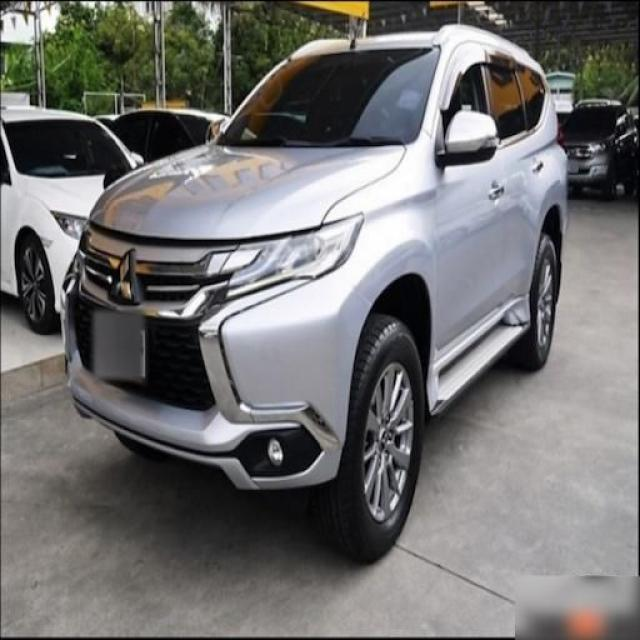back_left_door: (483, 43, 548, 301)
front_bumper: (63, 223, 370, 490)
front_glass: (218, 46, 440, 148)
front_left_door: (433, 42, 506, 356)
front_left_light: (217, 213, 365, 302)
hood: (88, 142, 404, 240)
left_mirror: (438, 111, 498, 168)
wheel: (315, 319, 427, 564), (532, 233, 558, 369)
